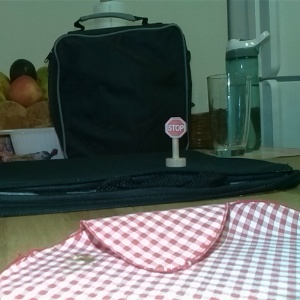stop sign: (162, 115, 189, 170)
